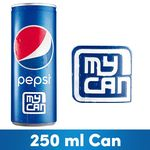pepsi: (12, 23, 53, 69), (12, 24, 53, 69)
